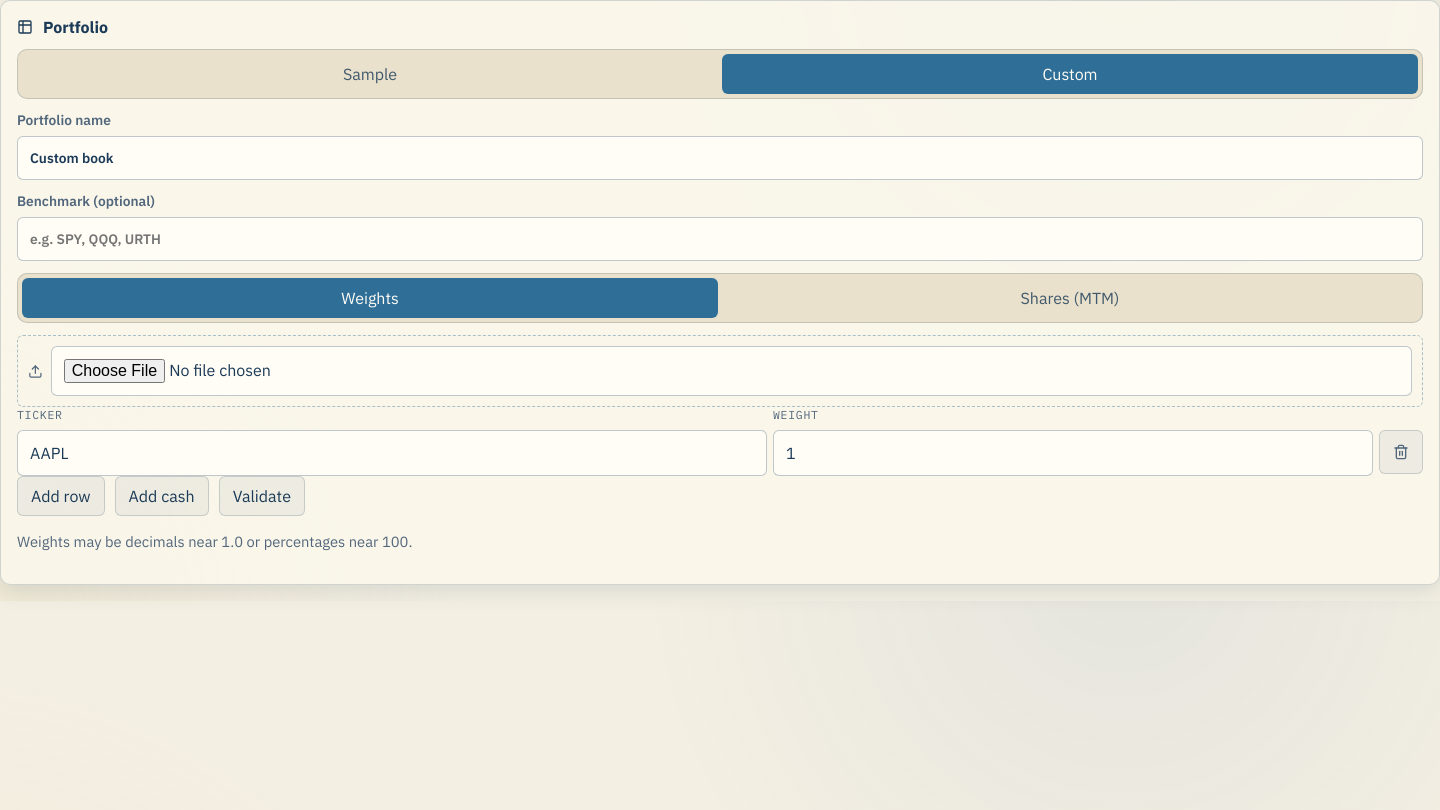
PortfolioPanel holdings context › clears stale validation while an uploaded portfolio is being checked
This screenshot has width=1440, height=810.
Click the button "Validate" at (262, 496), box [219,476,305,516]
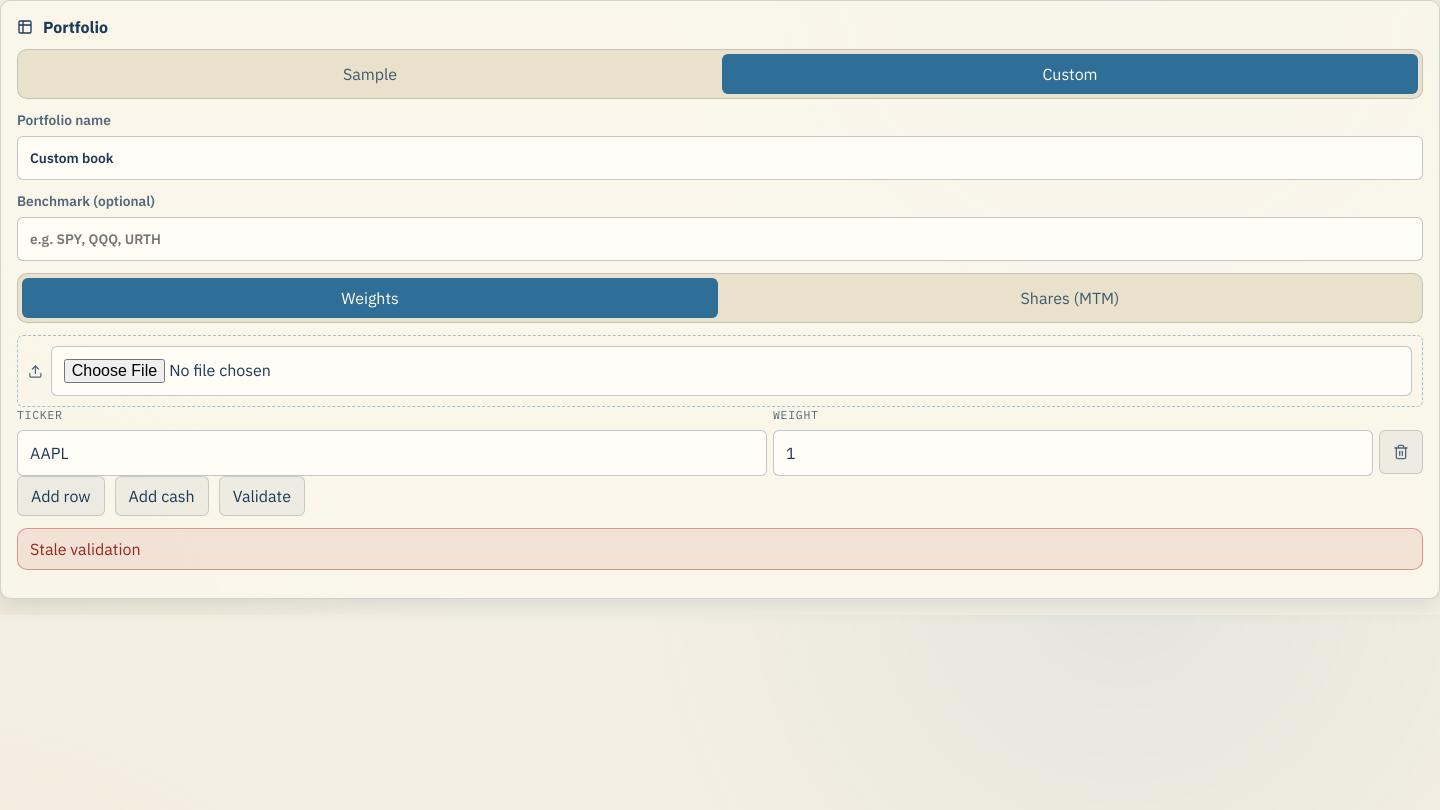
Check: the message reads "Stale validation", box [30,539,140,559]
